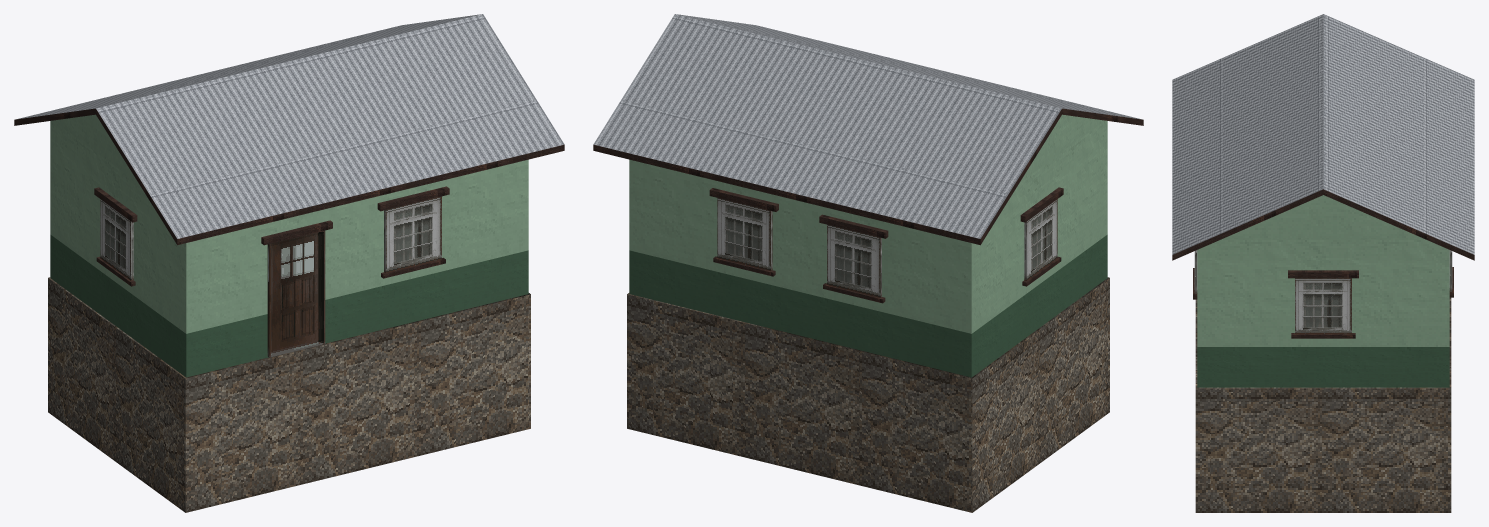
File: 07_pueblo_menta_calamina.glb
3 views of the same model, side by side, from view 1: azimuth 30°, elevation 25°; view 2: azimuth 150°, elevation 25°; view 3: azimuth 270°, elevation 25° (orthographic). The views are drawn at different scales.
Visible parts, largest first — view 1: 07_pueblo_menta_calamina; view 2: 07_pueblo_menta_calamina; view 3: 07_pueblo_menta_calamina.
Boxes of the visible parts, <box> form: 07_pueblo_menta_calamina: <box>14,14,564,512</box>; 07_pueblo_menta_calamina: <box>593,14,1143,512</box>; 07_pueblo_menta_calamina: <box>1172,14,1474,512</box>.
Bounding box in the file's own units: 7.24 × 6.42 × 5.28.
7 materials, 7 textured.
